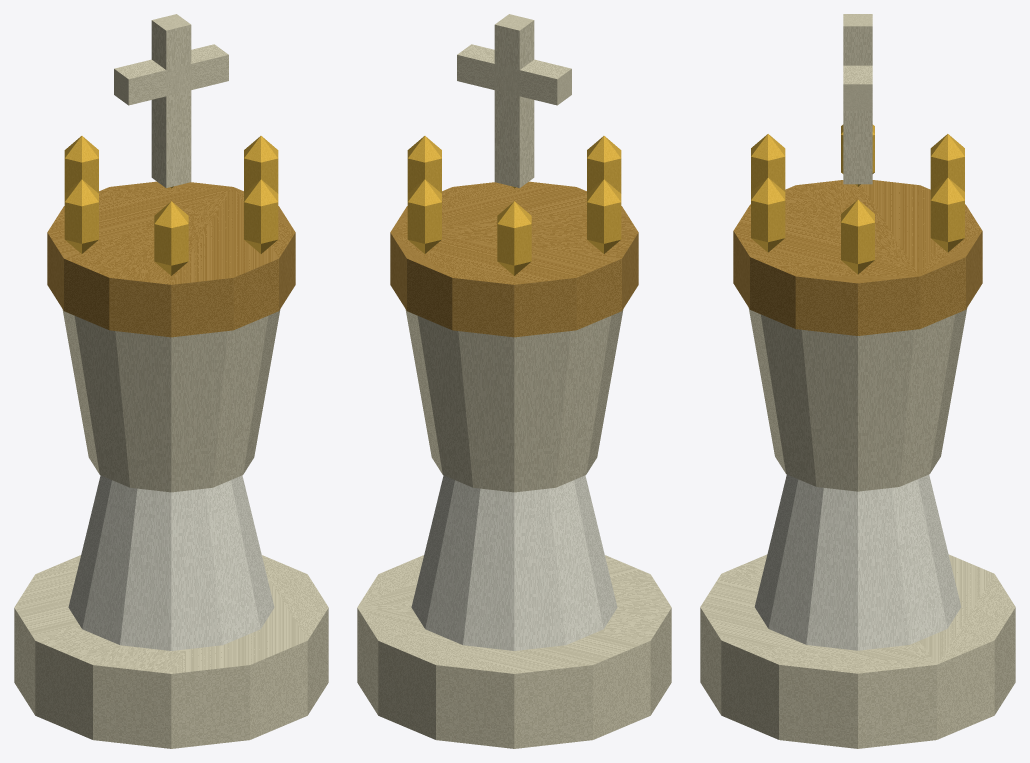
File: chess_king.glb
3 renders of one model, left to right at view 1: azimuth 30°, elevation 25°; view 2: azimuth 150°, elevation 25°; view 3: azimuth 270°, elevation 25°, orthographic.
Parts seen in each view (by area): view 1: base, body, pedestal, crown, crown_point (×5), cross_v, cross_h; view 2: base, body, pedestal, crown, crown_point (×5), cross_v, cross_h; view 3: base, body, pedestal, crown, crown_point (×5), cross_v, cross_h.
Boxes of the visible parts, x1,y1,x2,y2 form: base: (14,555,328,748); body: (62,309,280,492); pedestal: (68,475,274,650); crown: (47,181,295,337); crown_point (×5): (64,136,278,275); cross_v: (151,14,191,188); cross_h: (114,44,228,105); base: (357,555,671,748); body: (405,309,623,492); pedestal: (411,475,617,650); crown: (390,181,638,337); crown_point (×5): (407,136,621,275); cross_v: (494,14,534,188); cross_h: (457,44,571,105); base: (700,554,1015,748); body: (748,308,967,491); pedestal: (754,474,961,650); crown: (733,180,982,335); crown_point (×5): (751,134,964,274); cross_v: (843,14,872,184); cross_h: (843,65,872,110).
Bounding box in the file's own units: 0.76 × 1.76 × 0.76.
Materials: 1 (1 with a texture image).
